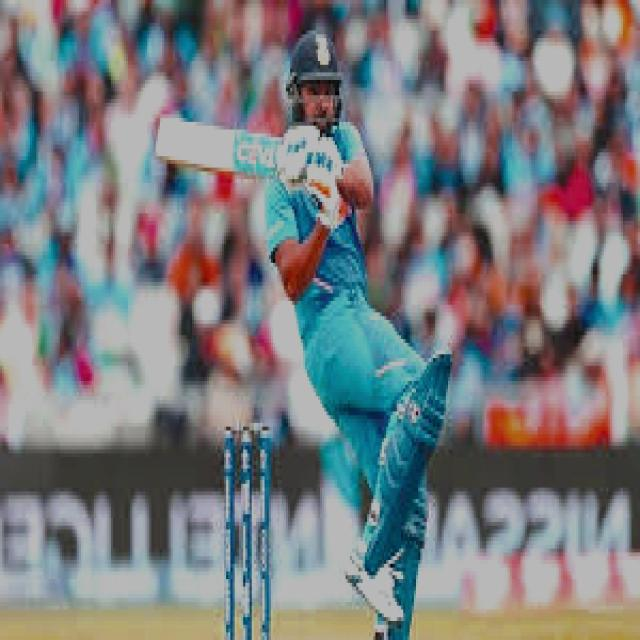toe: (147, 107, 179, 169)
